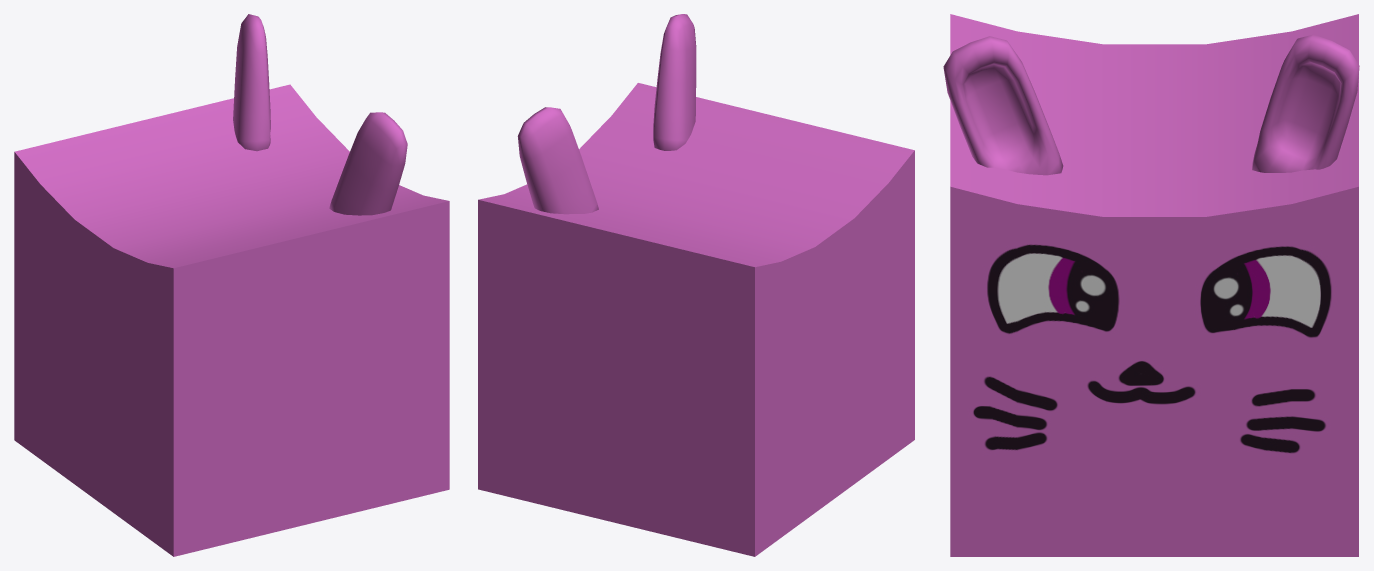
File: catpurple.fbx
3 views of the same model, side by side, from view 1: azimuth 30°, elevation 25°; view 2: azimuth 150°, elevation 25°; view 3: azimuth 270°, elevation 25° (orthographic). The views are drawn at different scales.
Parts seen in each view (by area): view 1: Cube; view 2: Cube; view 3: Cube.
Part boxes in pixels (box(x1,y1,x2,y2)): Cube: box(14, 14, 449, 556); Cube: box(478, 14, 914, 556); Cube: box(943, 14, 1359, 556).
Size of the model in its own units: 200 by 264 by 204.
1 material, 1 textured.
